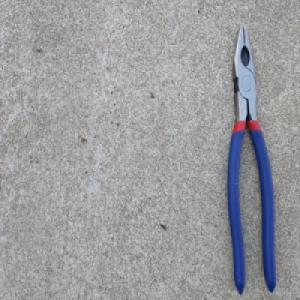Pliers: (225, 24, 277, 294)
